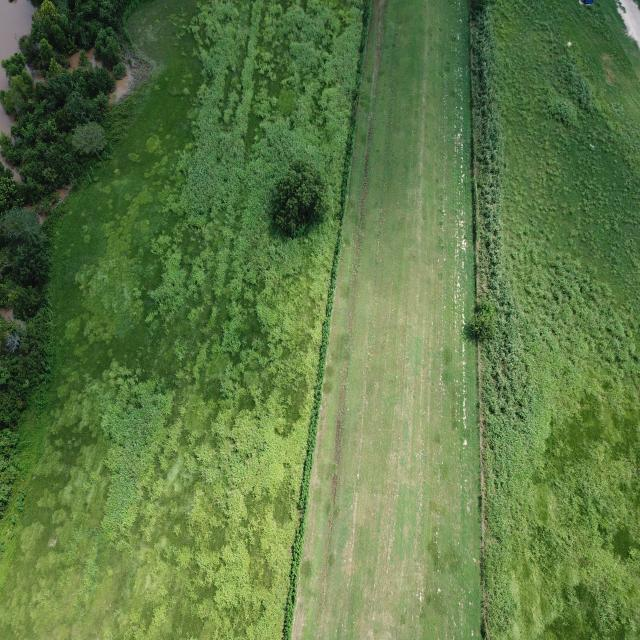fire: (0, 0, 34, 60), (0, 61, 7, 88), (0, 113, 9, 132)
